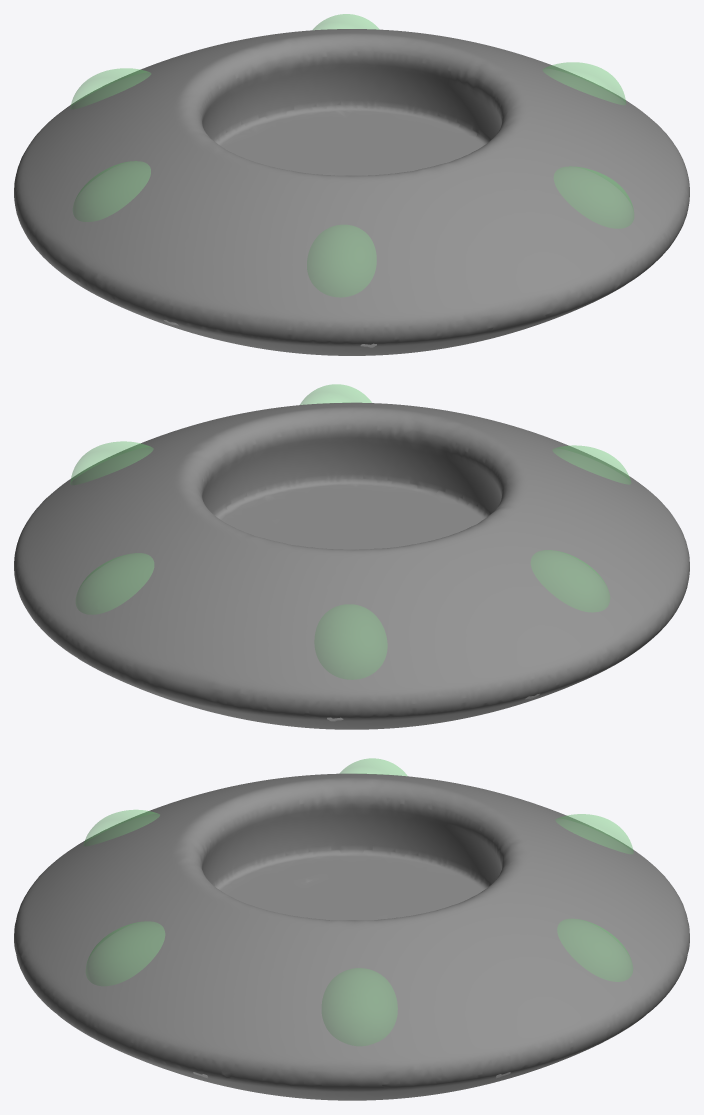
The model's file is ufo.gltf.
3 views of the same model, one above another, from view 1: azimuth 30°, elevation 25°; view 2: azimuth 150°, elevation 25°; view 3: azimuth 270°, elevation 25° (orthographic).
Parts seen in each view (by area): view 1: 24_07_24_06_09_07_923, 24_07_24_07_34_22_682; view 2: 24_07_24_06_09_07_923, 24_07_24_07_34_22_682; view 3: 24_07_24_06_09_07_923, 24_07_24_07_34_22_682.
Part boxes in pixels (left/top/right/bottom): 24_07_24_06_09_07_923: left=14, top=29, right=689, bottom=355; 24_07_24_07_34_22_682: left=70, top=14, right=633, bottom=297; 24_07_24_06_09_07_923: left=14, top=402, right=689, bottom=729; 24_07_24_07_34_22_682: left=70, top=384, right=630, bottom=679; 24_07_24_06_09_07_923: left=14, top=773, right=689, bottom=1100; 24_07_24_07_34_22_682: left=83, top=758, right=633, bottom=1045.
Bounding box in the file's own units: 49.36 × 15.81 × 49.36.
2 materials, 2 textured.
